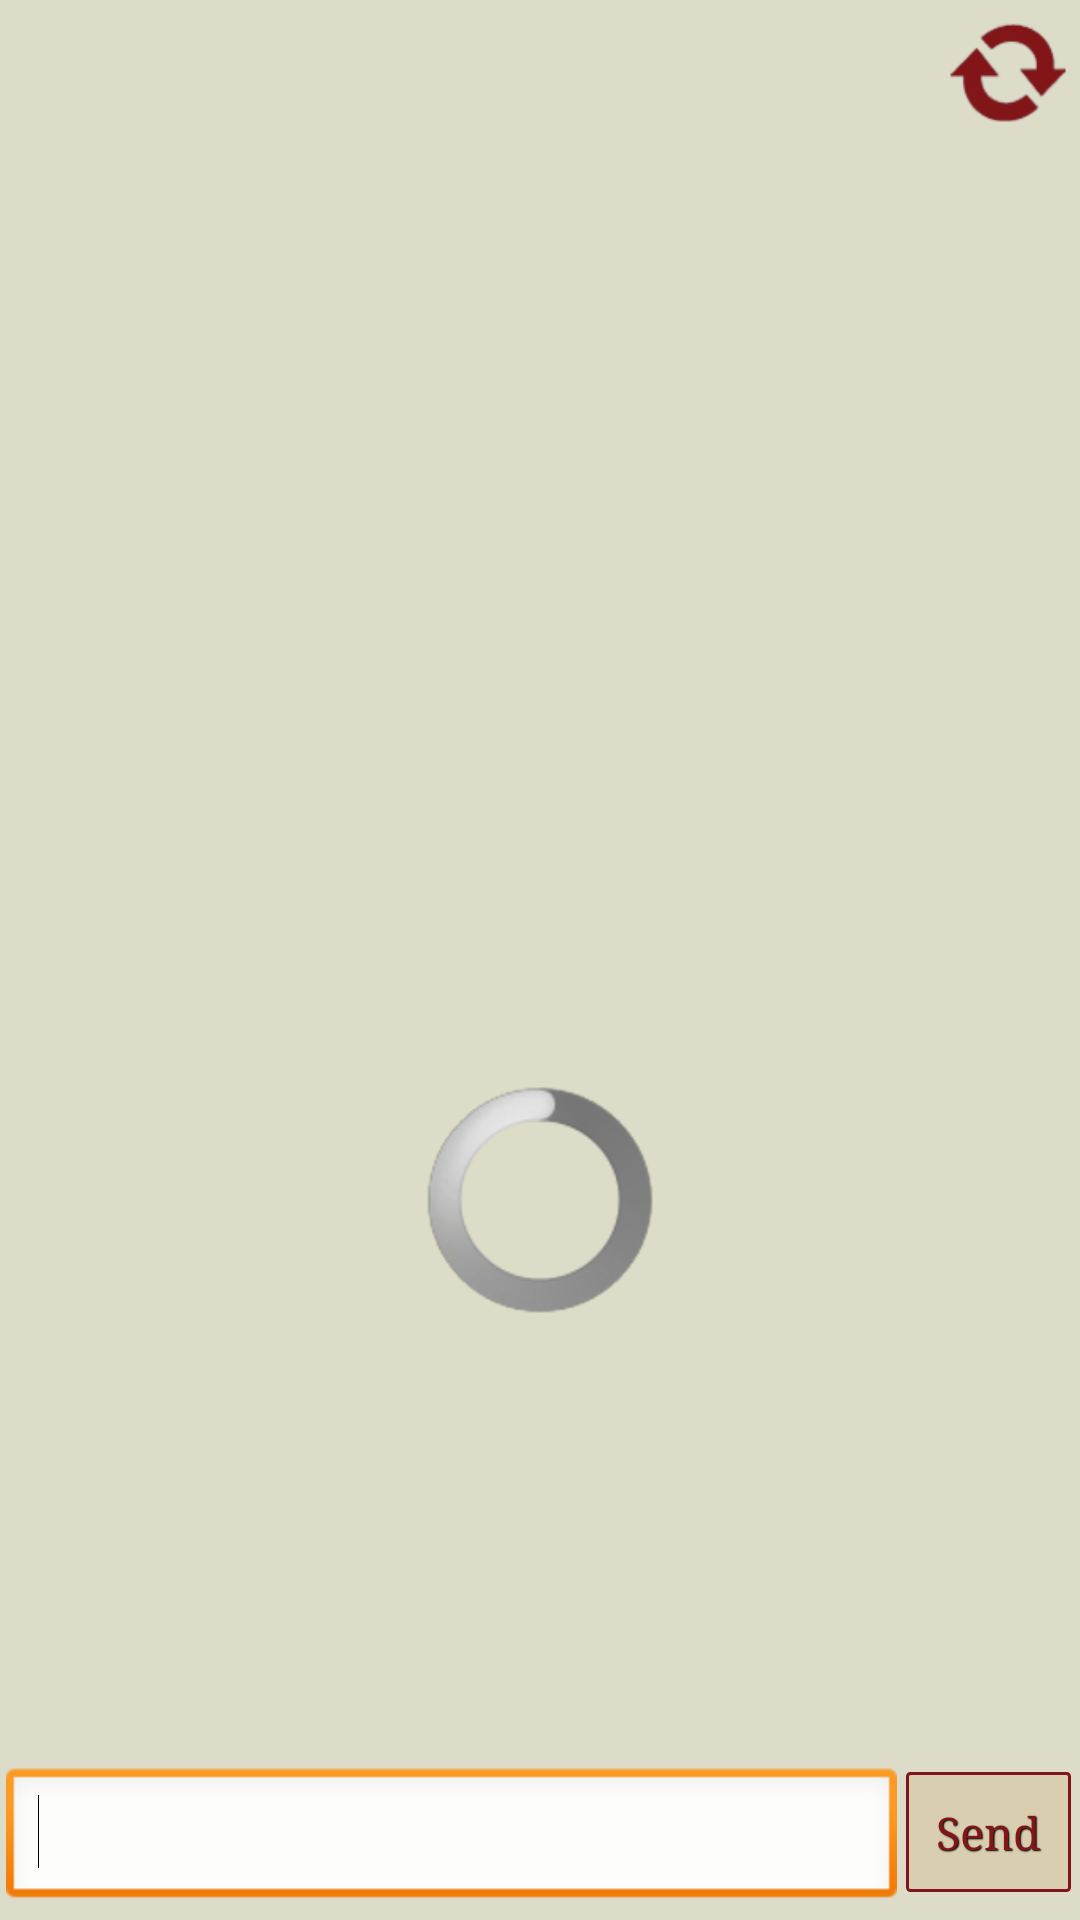

Where to tap for icons on this 1080x1920 app screen, as (x,y):
refresh: (1008,73)
